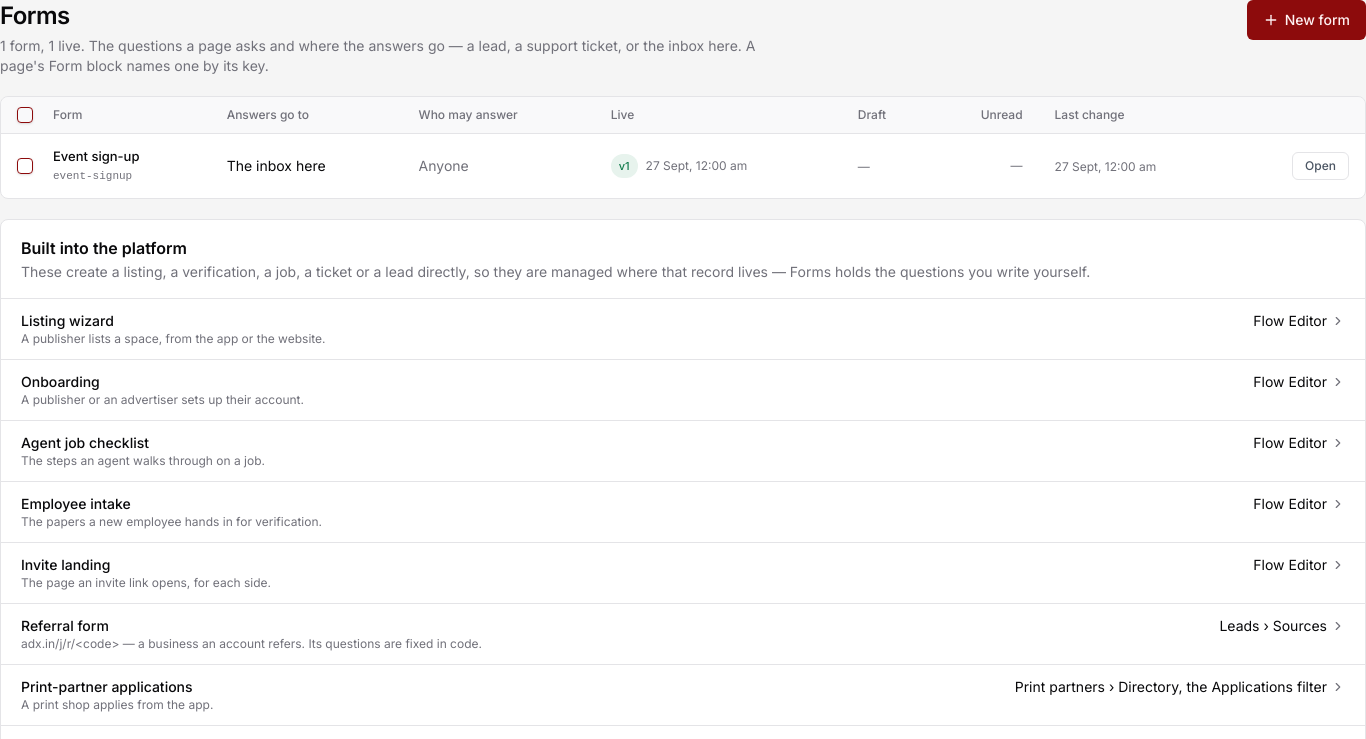
Test: forms in bulk › shuts archive without content.delete, naming it
This screenshot has width=1366, height=739.
What coordinates should you click on to do the following:
click the checkbox named "Select all rows"
I would click on:
 (25, 115)
Its box is x1=17 y1=107 x2=33 y2=123.
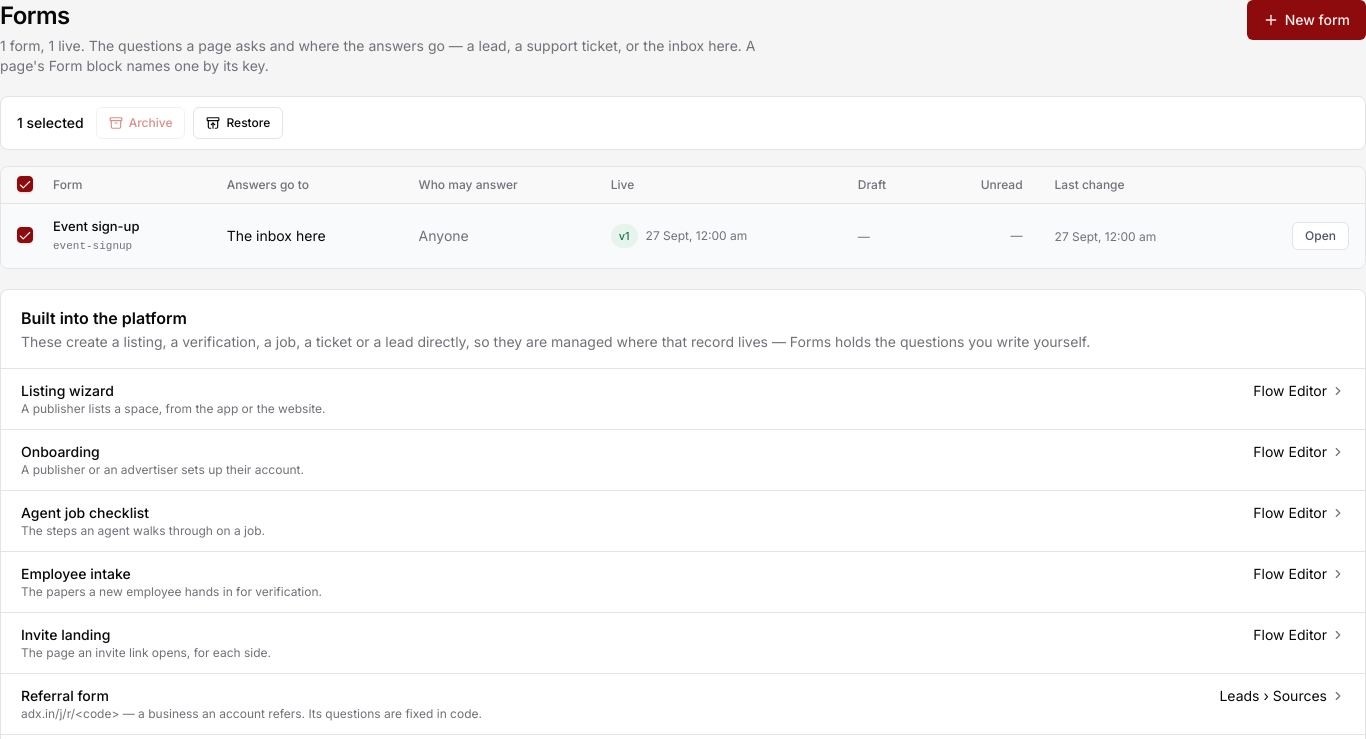
Check: the button with test id "bulk-archive" is disabled, box x1=96 y1=107 x2=186 y2=139
Check: the button with test id "bulk-restore" is enabled, box x1=194 y1=107 x2=283 y2=139
